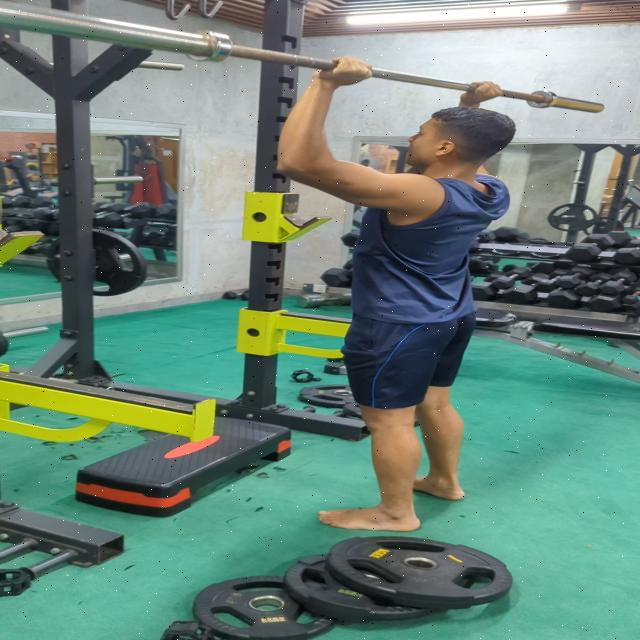Normal_OverheadPress: (260, 52, 510, 538)
